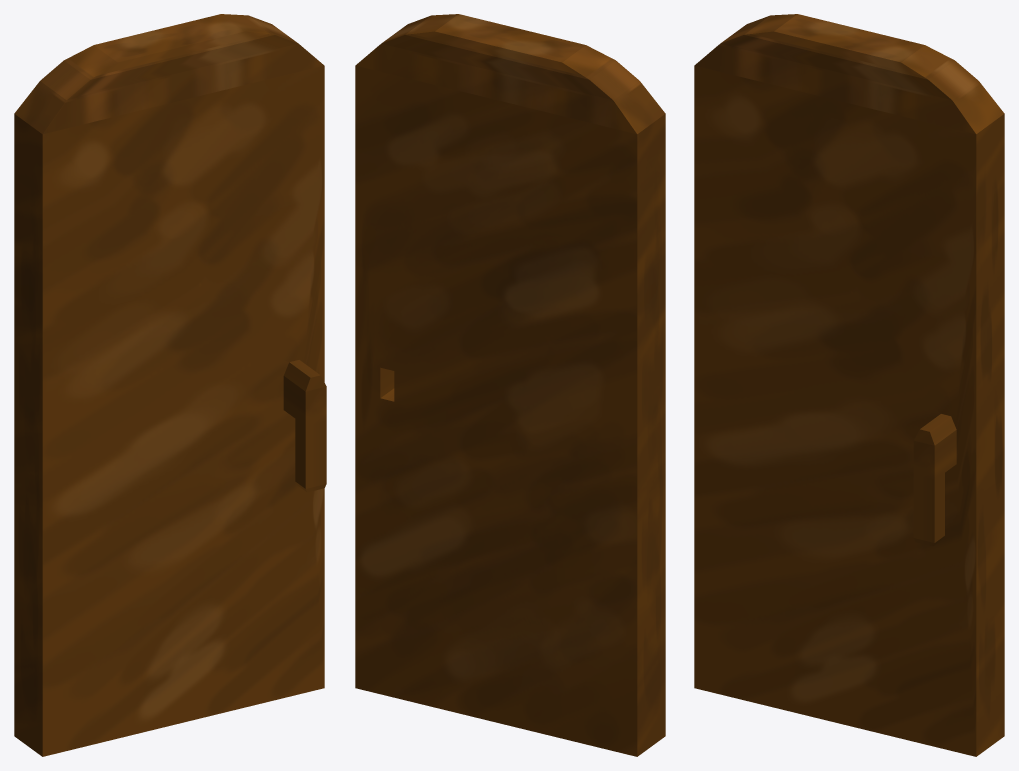
Rendered from door.glb.
3 views of the same model, side by side, from view 1: azimuth 30°, elevation 25°; view 2: azimuth 150°, elevation 25°; view 3: azimuth 330°, elevation 25° (orthographic).
Parts seen in each view (by area): view 1: Cube; view 2: Cube; view 3: Cube.
Boxes of the visible parts, left/top/right/bottom form: Cube: left=14, top=14, right=326, bottom=756; Cube: left=355, top=14, right=665, bottom=756; Cube: left=694, top=14, right=1004, bottom=756.
Size of the model in its own units: 0.3177 by 0.7257 by 0.0979.
Materials: 1 (1 with a texture image).
